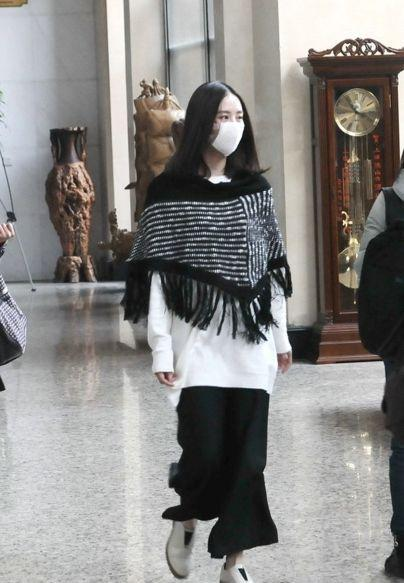OK: (206, 108, 249, 154)
